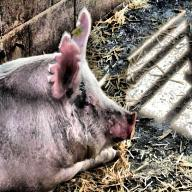boar: (0, 7, 137, 192)
